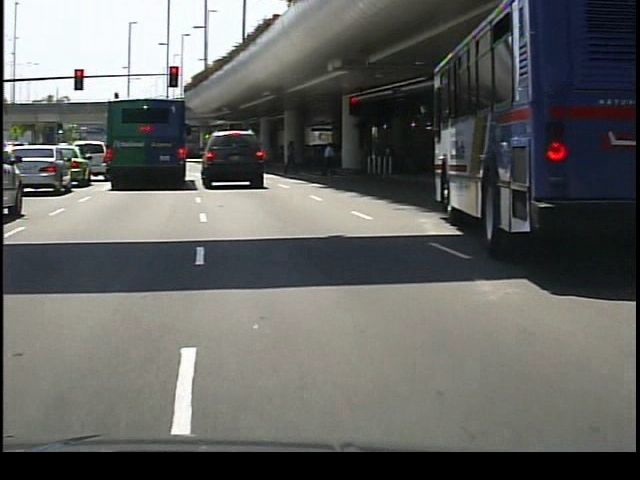person: (281, 137, 303, 179), (318, 140, 338, 177)
